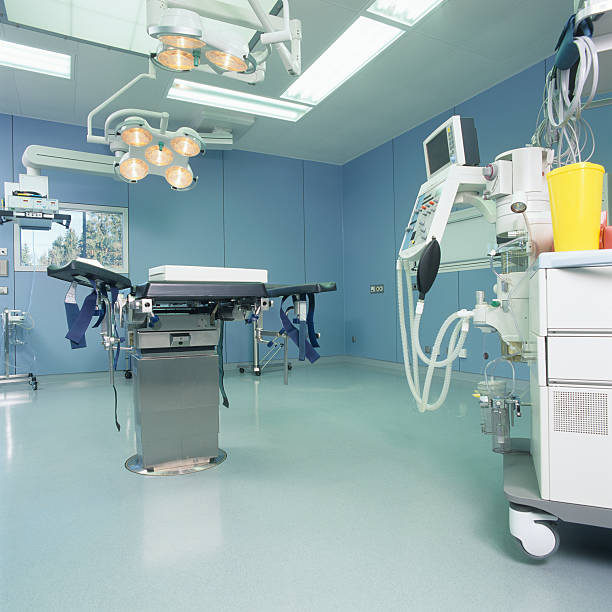bedside_monitor: (421, 127, 459, 176)
breathing_tube: (396, 240, 470, 413)
medical_waste_container: (546, 162, 612, 252)
operating_bed: (47, 257, 337, 475)
surgical_light: (113, 116, 204, 192), (151, 25, 256, 75)
ventilator: (392, 157, 612, 568)
